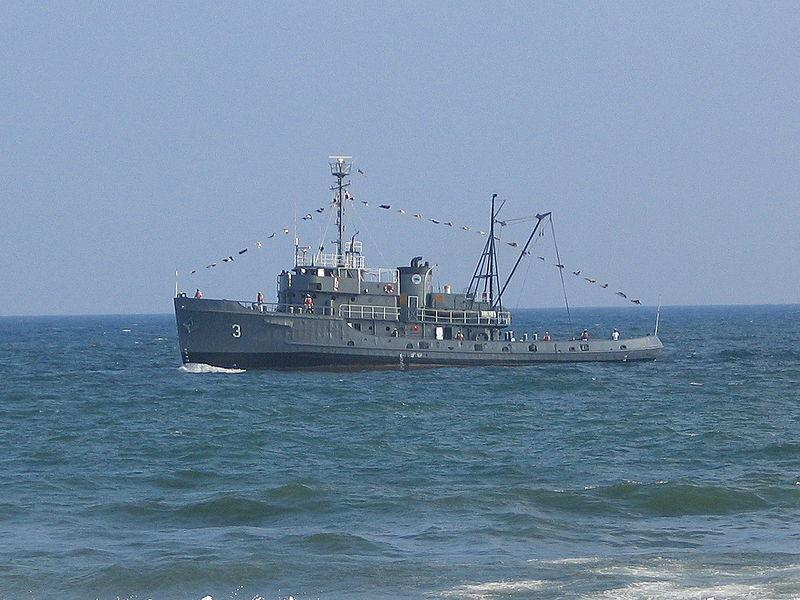warship: (167, 168, 688, 373)
